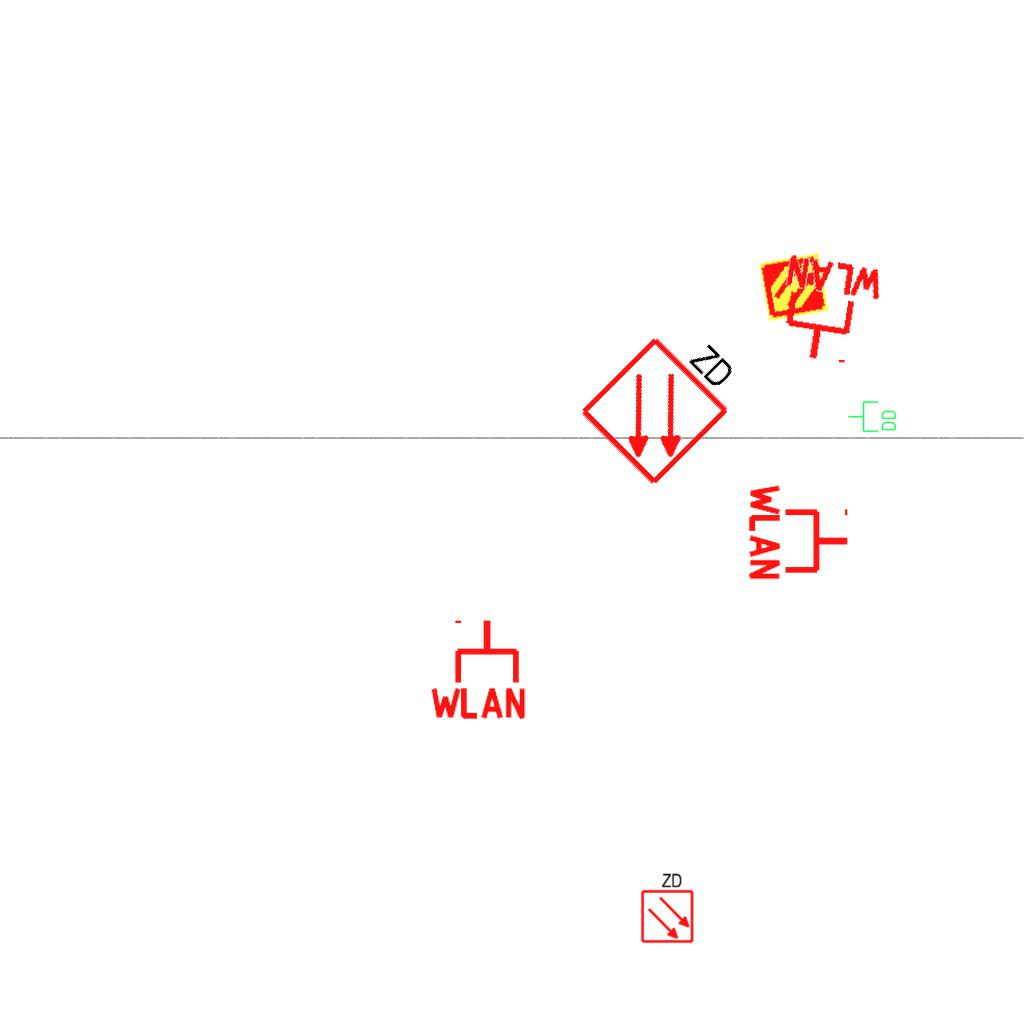ASR_Ansaugrauchmelder: (758, 251, 830, 323)
Datenanschluss_zweifach: (847, 400, 898, 434)
WLAN: (769, 252, 890, 372), (747, 480, 852, 584), (426, 616, 530, 721)
ZD_Melder_in_Zwischendecke_mit_Revisionsoeffnung_mind_40_x_40_cm: (574, 303, 760, 490), (638, 870, 695, 944)
